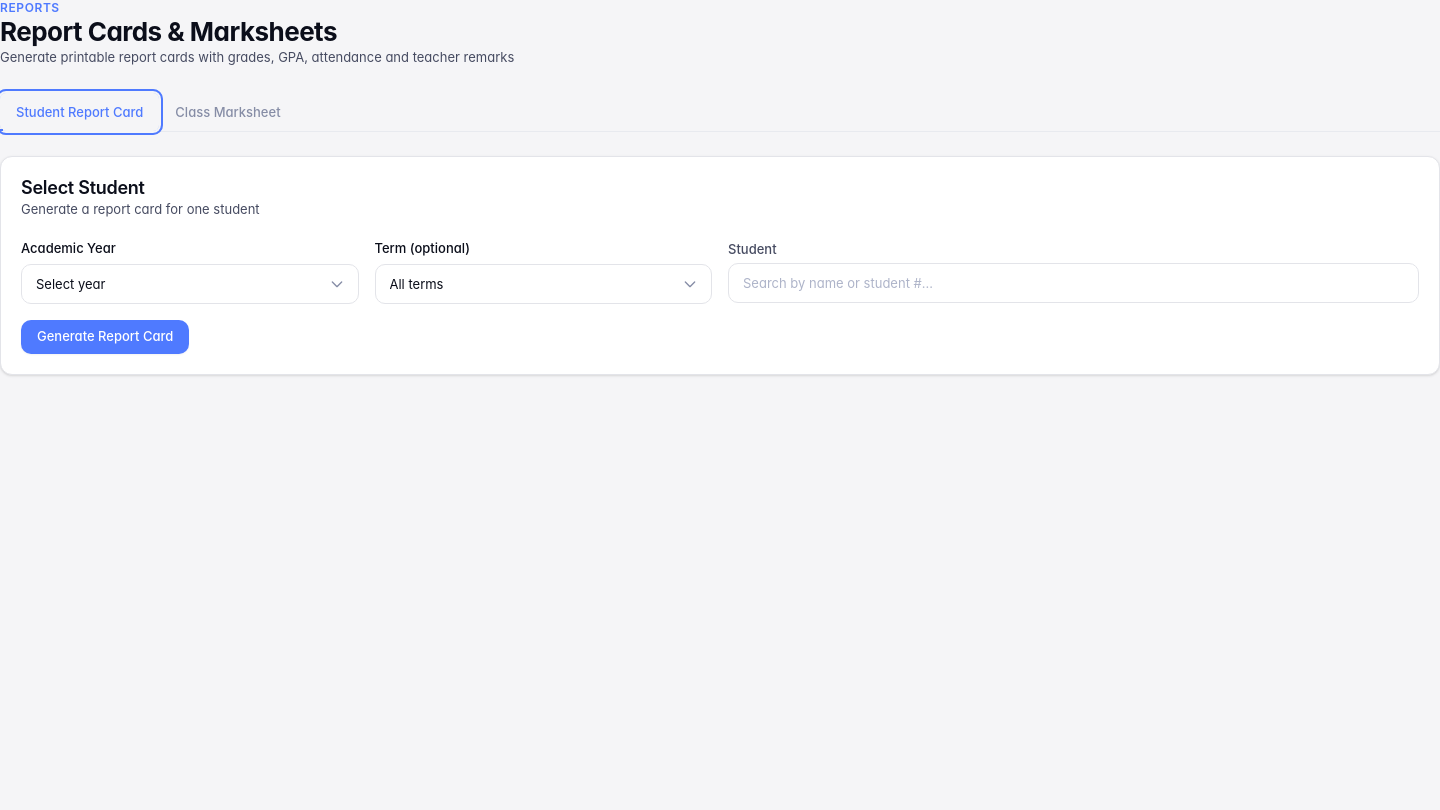
Test: Report Cards page › shows an empty state when no grades are recorded
The image size is (1440, 810).
Select "2026-27" in the dropdown labelled "Academic Year" at [190, 284], box [21,264,358,304]
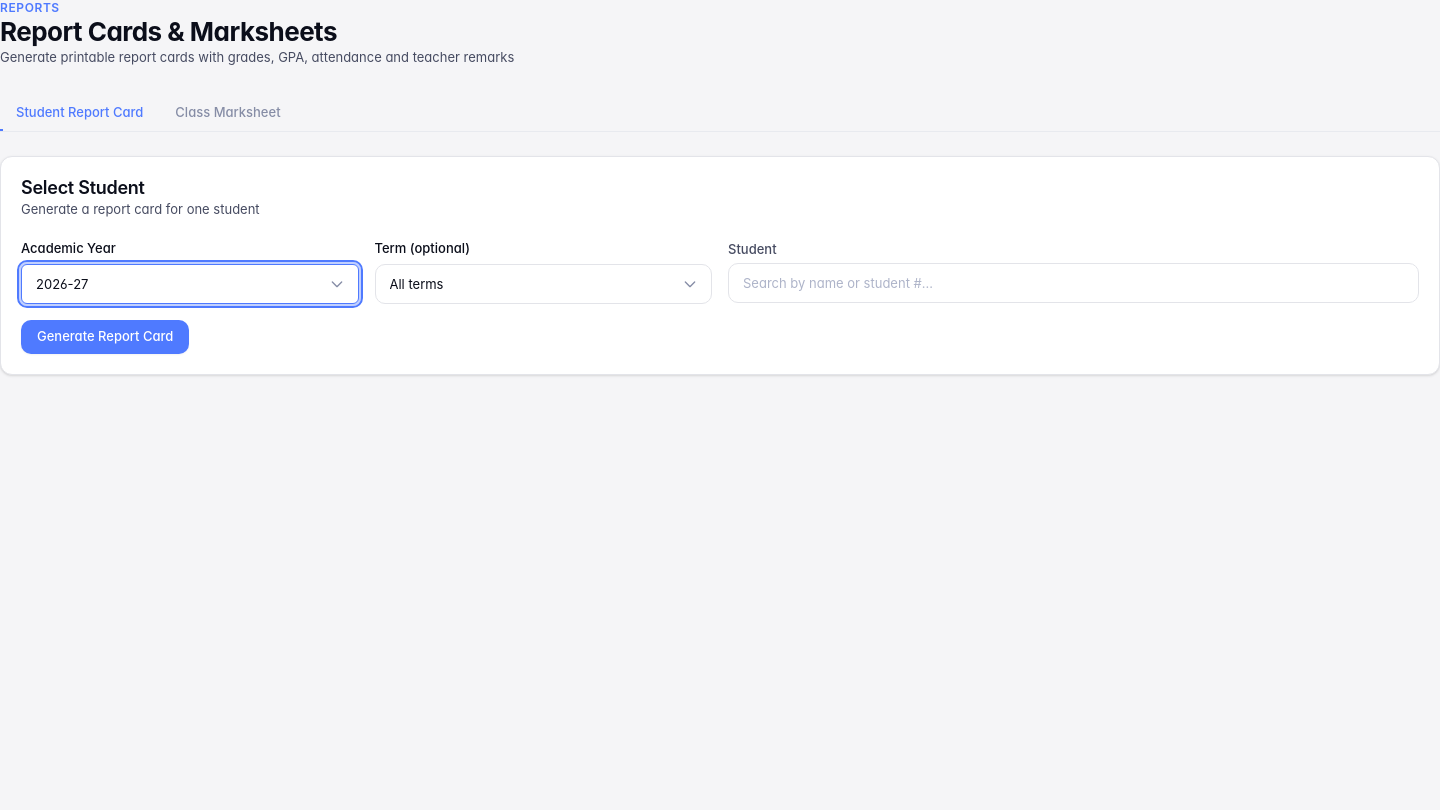
Select "Term 1" in the dropdown labelled "Term (optional)" at [543, 284], box [374,264,712,304]
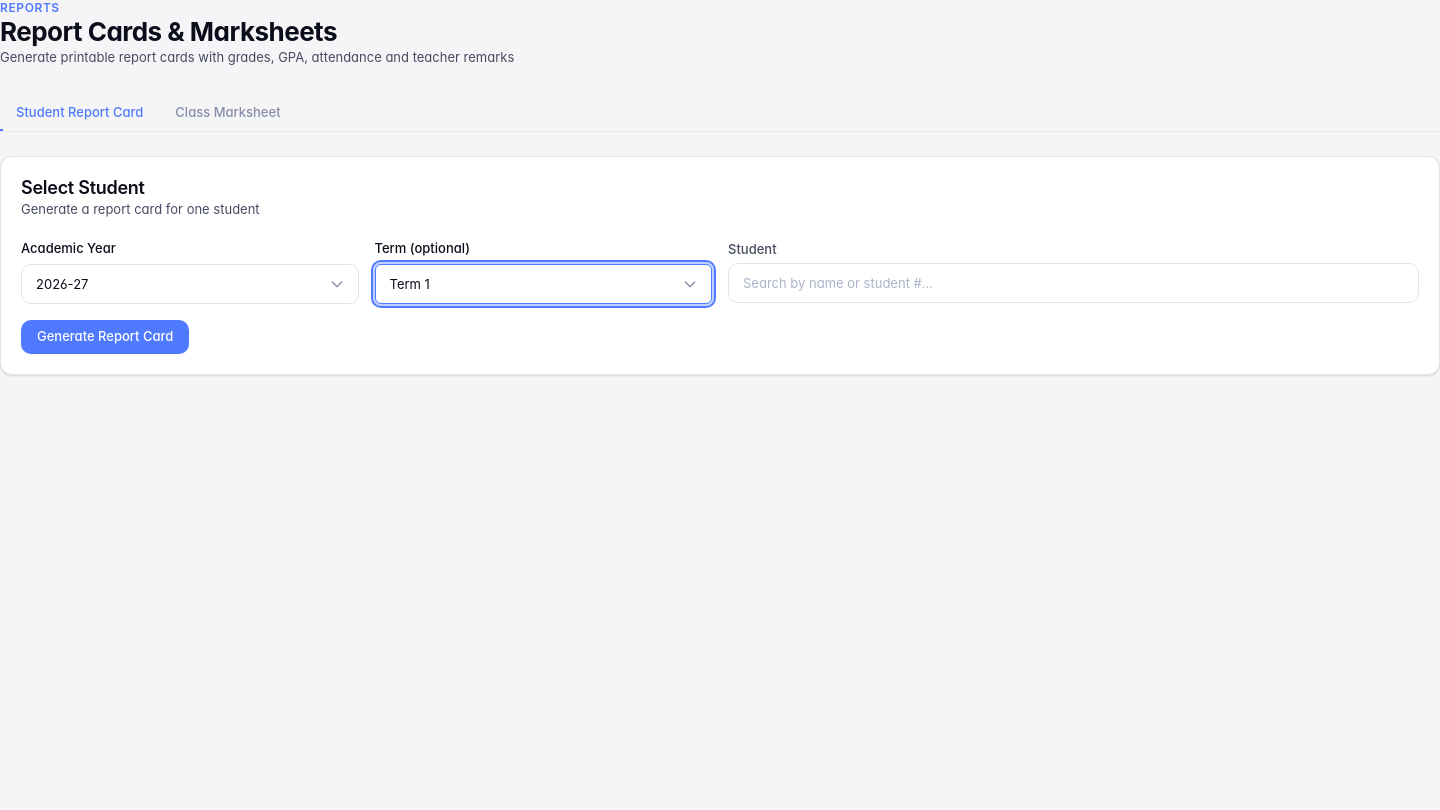
Type "Rahul" into the field with placeholder "Search by name or student #...".
click(1074, 283); type("Rahul")  # box [728,263,1419,303]
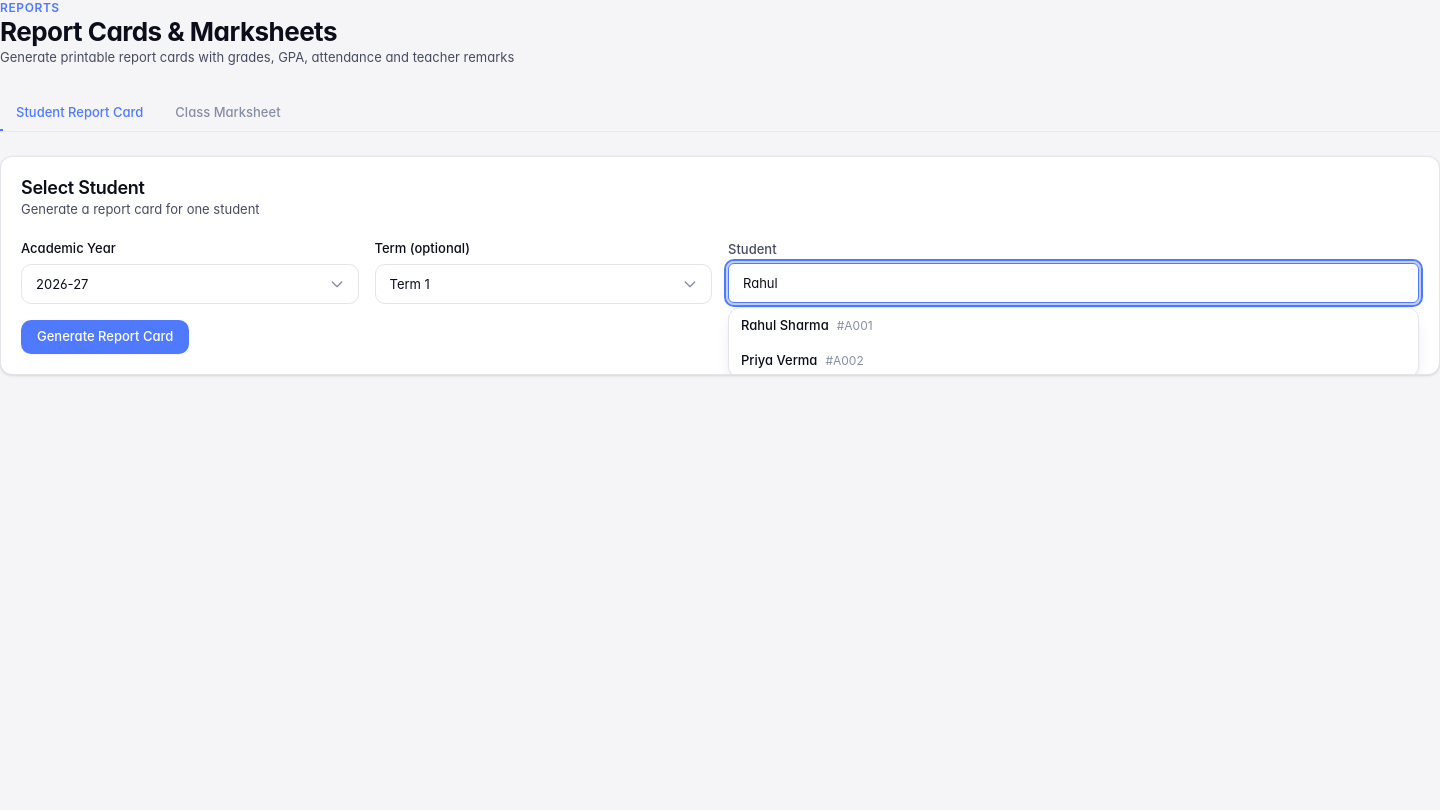
Check: the text "Rahul Sharma" is shown
Click the text "Rahul Sharma".
click(785, 325)  # box [741,317,829,333]
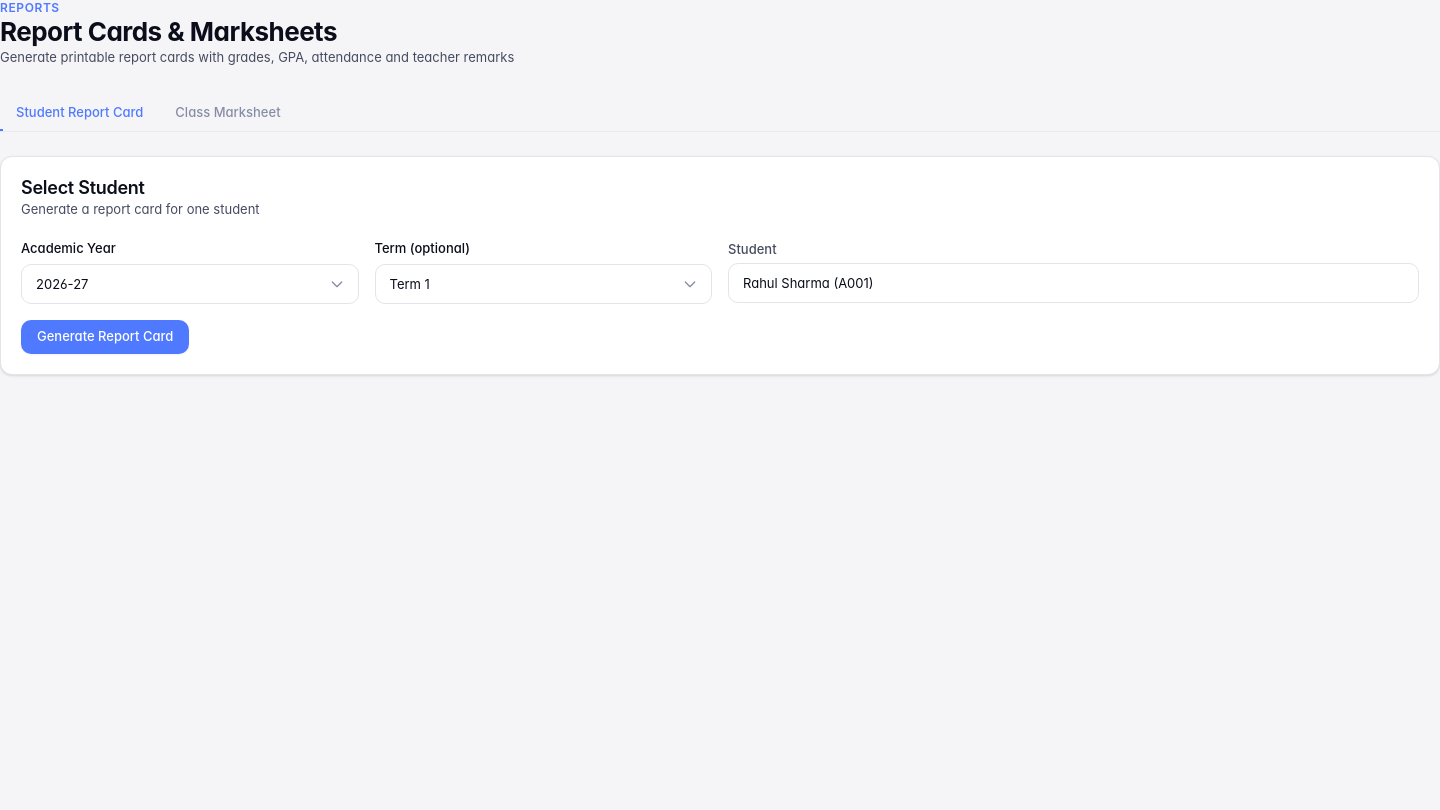
Click the button "Generate Report Card".
click(105, 337)  # box [21,320,189,354]
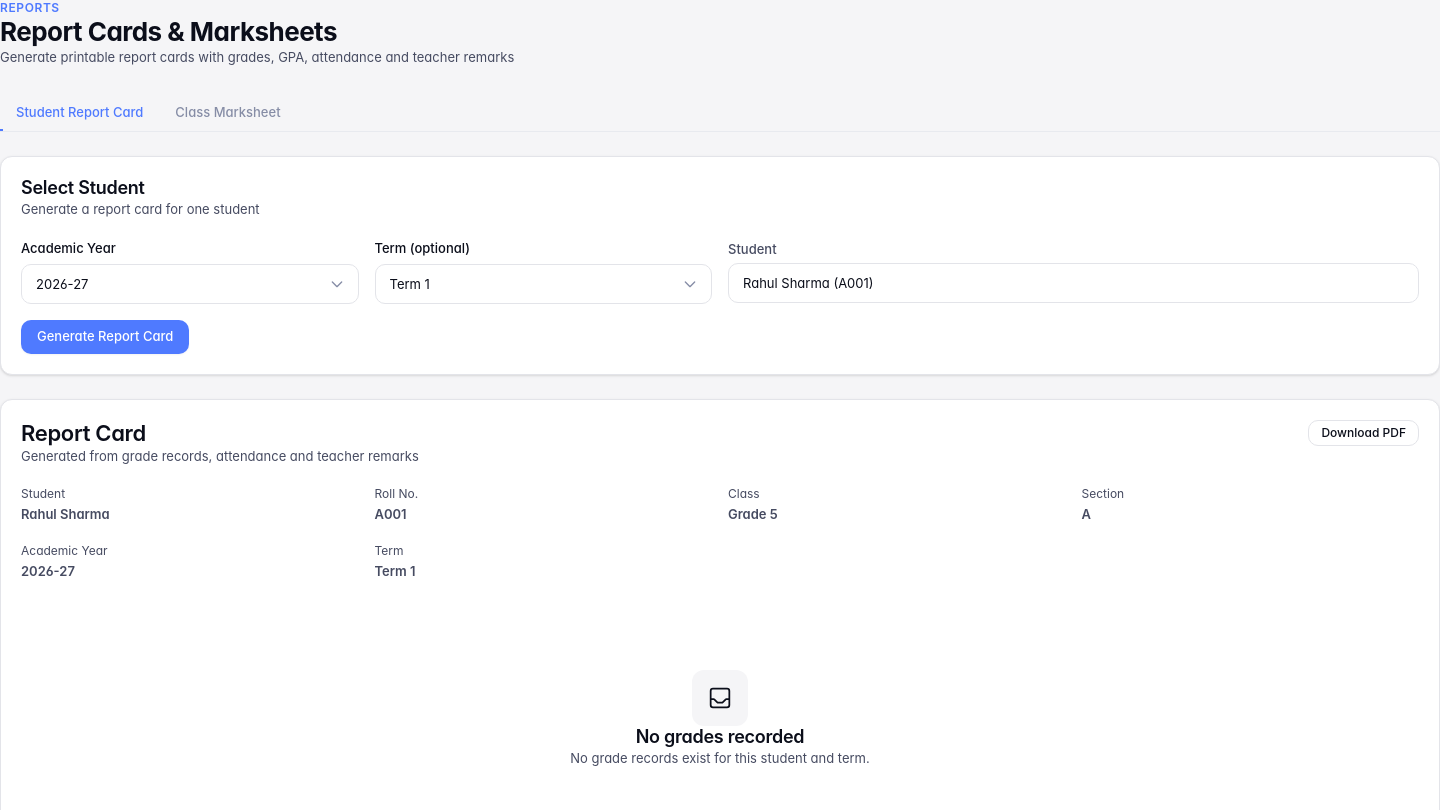
Check: the heading "No grades recorded" is shown, box [636,726,804,747]
